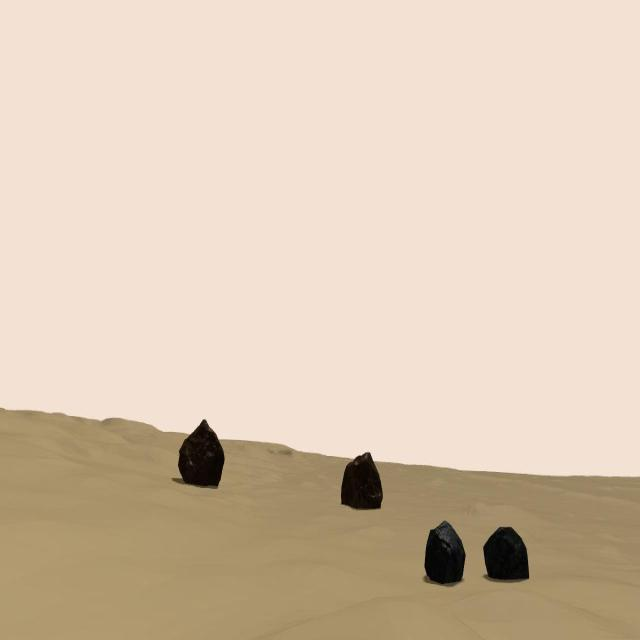rock: (178, 418, 224, 487), (424, 520, 466, 584), (484, 526, 530, 580), (341, 451, 383, 509)
